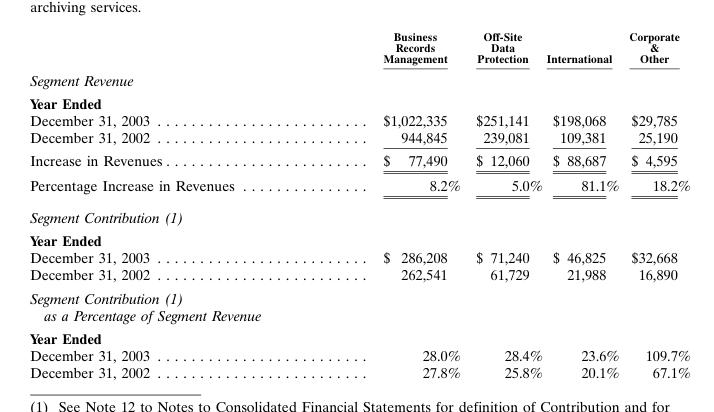table: (29, 28, 690, 380)
table column: (29, 28, 308, 380), (308, 28, 467, 380), (543, 28, 623, 380), (467, 28, 543, 380), (623, 28, 690, 380)
table column header: (29, 28, 690, 68)
table projected row header: (29, 286, 690, 326), (29, 200, 690, 228), (29, 68, 690, 91), (29, 91, 690, 111), (29, 228, 690, 248), (29, 326, 690, 346)
table row: (29, 28, 690, 68), (29, 286, 690, 326), (29, 172, 690, 200), (29, 200, 690, 228), (29, 148, 690, 172), (29, 68, 690, 91), (29, 265, 690, 286), (29, 91, 690, 111), (29, 128, 690, 148), (29, 228, 690, 248), (29, 326, 690, 346), (29, 111, 690, 128), (29, 248, 690, 265), (29, 346, 690, 363), (29, 363, 690, 380)
